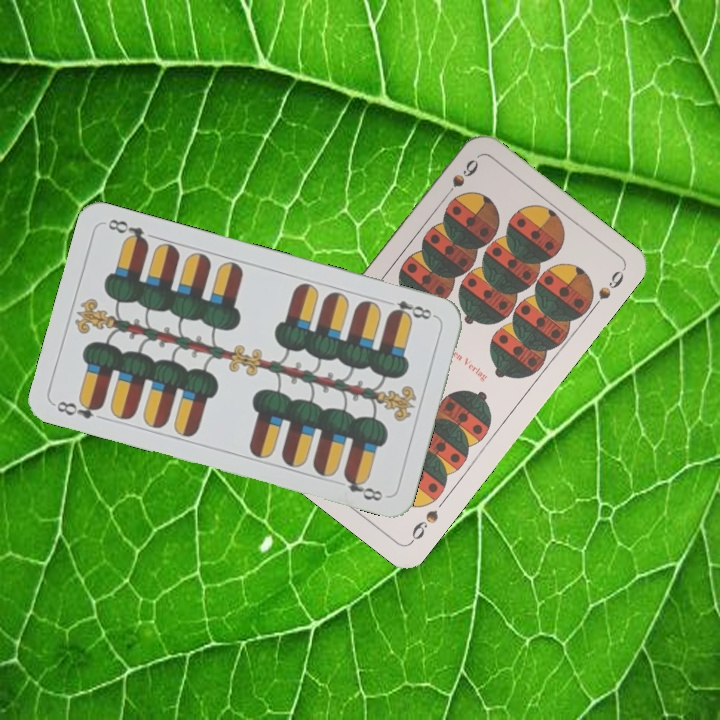E8: (385, 296, 439, 323), (52, 395, 106, 422)
S9: (438, 155, 482, 204), (406, 505, 442, 546)
